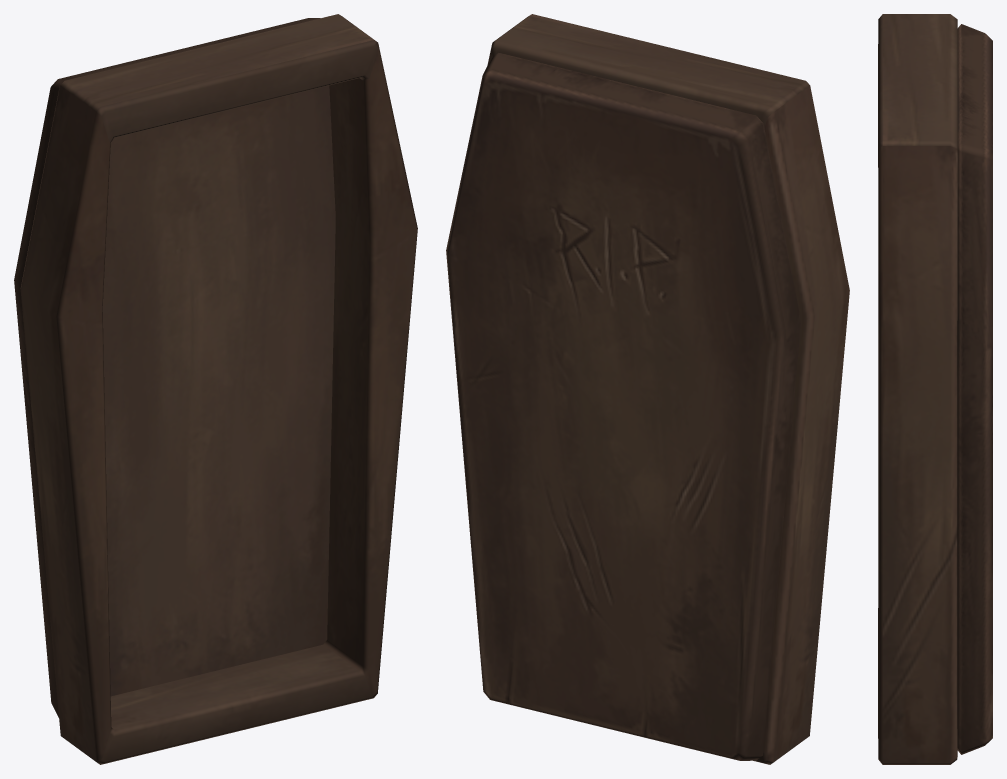
The model's file is coffin.glb.
3 views of the same model, side by side, from view 1: azimuth 30°, elevation 25°; view 2: azimuth 150°, elevation 25°; view 3: azimuth 270°, elevation 25° (orthographic). The views are drawn at different scales.
Parts seen in each view (by area): view 1: coffin_lid, coffin_door; view 2: coffin_lid, coffin_door; view 3: coffin_door, coffin_lid.
Boxes of the visible parts, x1,y1,x2,y2 form: coffin_lid: (14, 18, 335, 717); coffin_door: (20, 14, 417, 764); coffin_lid: (446, 53, 800, 760); coffin_door: (487, 14, 849, 764); coffin_door: (878, 14, 957, 764); coffin_lid: (957, 24, 992, 754).
Size of what is drawn, in the model's own units: 2.16 by 3.75 by 0.6244.
Materials: 1 (1 with a texture image).
